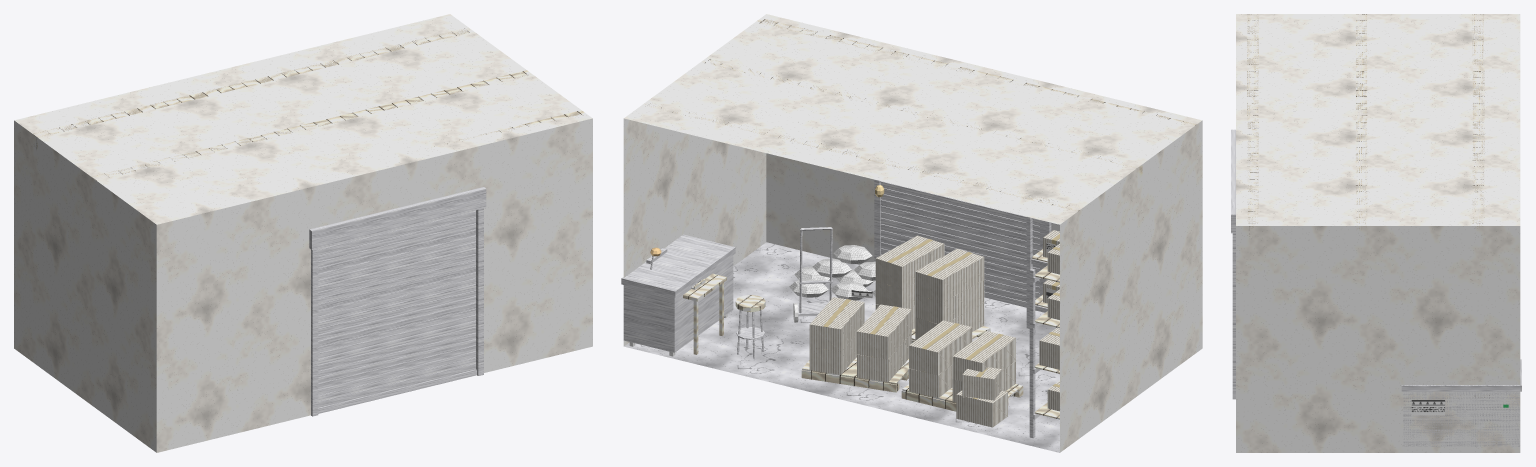
File: magazzino.obj
3 views of the same model, side by side, from view 1: azimuth 30°, elevation 25°; view 2: azimuth 150°, elevation 25°; view 3: azimuth 270°, elevation 25° (orthographic).
Visible parts, largest first — view 1: intonaco_002, intonaco_003, metallo_009, metallo_010, metallo_011, legno_004; view 2: intonaco_003, intonaco_002, cemento_000, metallo_010, metallo_119, metallo_009, metallo_121, legno_004, tessuto_257, cartone_261, cartone_248, cartone_239 (+23 smaller); view 3: intonaco_002, intonaco_003, legno_004, metallo_119, metallo_011, metallo_121, stampa_a_124.
Boxes of the visible parts, x1,y1,x2,y2 form: intonaco_002: (14, 118, 592, 452); intonaco_003: (14, 14, 592, 224); metallo_009: (318, 210, 475, 407); metallo_010: (318, 211, 475, 401); metallo_011: (309, 187, 486, 416); legno_004: (33, 27, 585, 183); intonaco_003: (624, 14, 1201, 224); intonaco_002: (623, 118, 1202, 452); cemento_000: (624, 242, 1059, 452); metallo_010: (881, 181, 1039, 298); metallo_119: (623, 255, 733, 352); metallo_009: (881, 188, 1039, 301); metallo_121: (621, 234, 735, 297); legno_004: (643, 18, 1196, 210); tessuto_257: (789, 245, 875, 300); cartone_261: (956, 390, 1007, 427); cartone_248: (875, 250, 917, 289); cartone_239: (915, 263, 956, 302); intonaco_002: (1236, 226, 1520, 452); intonaco_003: (1236, 14, 1520, 225); legno_004: (1247, 14, 1484, 233); metallo_119: (1403, 391, 1519, 446); metallo_011: (1231, 129, 1235, 399); metallo_121: (1401, 359, 1521, 391); stampa_a_124: (1411, 400, 1444, 415).
Size of the model in its own units: 6.02 by 3 by 3.48.
37 materials, 31 textured.
